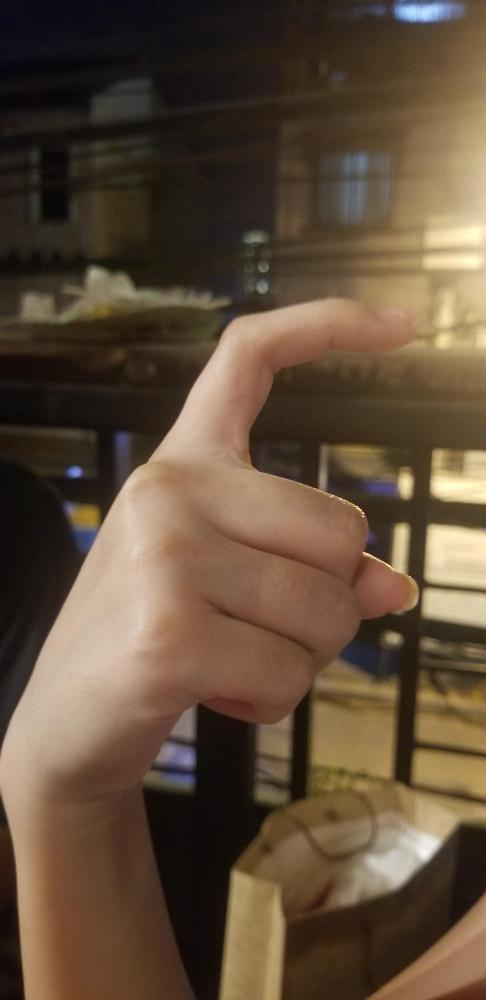x: (35, 289, 427, 805)
